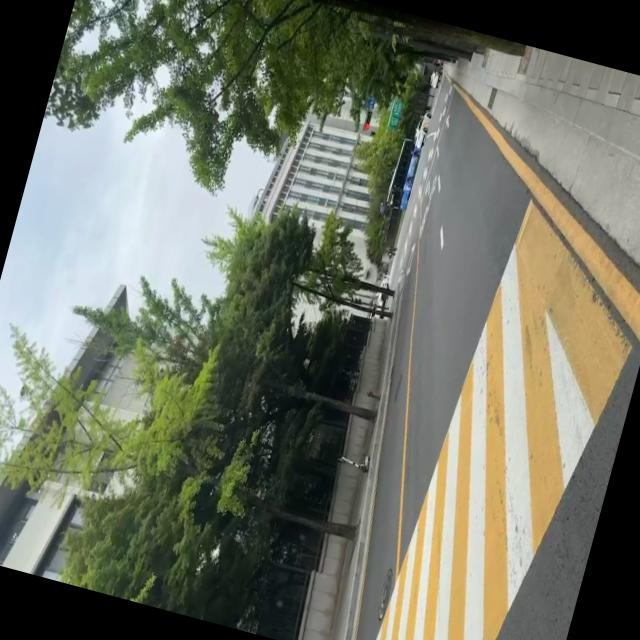building: (0, 264, 186, 592), (237, 81, 387, 272)
car: (381, 142, 420, 215), (410, 106, 442, 158), (428, 68, 442, 88)
